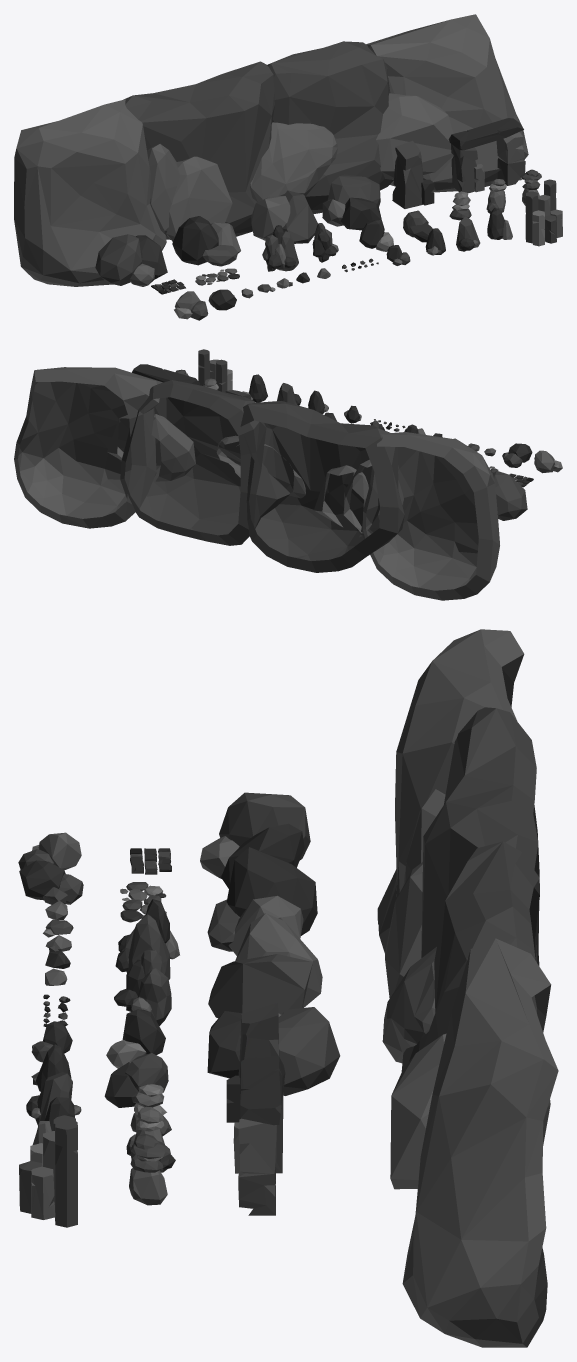
Rendered from low_poly_rocks_fbx.glb.
3 views of the same model, one above another, from view 1: azimuth 30°, elevation 25°; view 2: azimuth 150°, elevation 25°; view 3: azimuth 270°, elevation 25° (orthographic). The views are drawn at different scales.
Parts seen in each view (by area): view 1: rock_xxl_01, rock_xxl_02, rock_xxl_03, rock_xxl_01.002, rock_xxl_02.5, rock_xxl_01.003, rock_xxl_01.001, rock_xl_03, rock_xl_02.001, rock_xl_02, rock_xl_01, rock_xxl_01.5 (+16 smaller); view 2: rock_xxl_01.002, rock_xxl_02, rock_xxl_01, rock_xxl_03, rock_xxl_01.003, rock_xl_03, rock_xxl_01.001, rock_xxl_01.5, column-rock-6, rock_xxl_02.5, rock_lg_04, rock_lg_03 (+4 smaller); view 3: rock_xxl_01.002, rock_xxl_02, rock_xxl_01, rock_xxl_03, rock_xl_01, rock_xl_02, rock_xl_02.001, rock_xl_03, rock_xxl_01.003, rock_xxl_02.5, column-rock-5, rock_xxl_01.001 (+16 smaller).
Part boxes in pixels (bbox=[...]): rock_xxl_01: bbox=[14, 99, 166, 286]; rock_xxl_02: bbox=[123, 61, 274, 239]; rock_xxl_03: bbox=[267, 41, 393, 214]; rock_xxl_01.002: bbox=[366, 14, 528, 192]; rock_xxl_02.5: bbox=[250, 122, 337, 201]; rock_xxl_01.003: bbox=[376, 93, 453, 179]; rock_xxl_01.001: bbox=[166, 156, 232, 241]; rock_xl_03: bbox=[95, 234, 167, 286]; rock_xl_02.001: bbox=[322, 174, 381, 230]; rock_xl_02: bbox=[172, 216, 240, 266]; rock_xl_01: bbox=[251, 190, 317, 243]; rock_xxl_01.5: bbox=[147, 144, 180, 235]; rock_xxl_01.002: bbox=[14, 367, 162, 528]; rock_xxl_02: bbox=[240, 401, 404, 572]; rock_xxl_01: bbox=[363, 432, 499, 600]; rock_xxl_03: bbox=[120, 380, 289, 545]; rock_xxl_01.003: bbox=[107, 414, 195, 481]; rock_xl_03: bbox=[492, 470, 527, 520]; rock_xxl_01.001: bbox=[314, 465, 368, 537]; rock_xxl_01.5: bbox=[343, 459, 403, 533]; column-rock-6: bbox=[132, 364, 200, 385]; rock_xxl_02.5: bbox=[216, 435, 305, 498]; rock_lg_04: bbox=[502, 443, 532, 467]; rock_lg_03: bbox=[534, 450, 562, 473]; rock_xxl_01.002: bbox=[402, 938, 558, 1347]; rock_xxl_02: bbox=[421, 707, 539, 965]; rock_xxl_01: bbox=[377, 629, 524, 952]; rock_xxl_03: bbox=[401, 841, 550, 1145]; rock_xl_01: bbox=[208, 913, 322, 1018]; rock_xl_02: bbox=[207, 847, 317, 955]; rock_xl_02.001: bbox=[207, 1007, 340, 1095]; rock_xl_03: bbox=[200, 792, 310, 888]; rock_xxl_01.003: bbox=[390, 1033, 446, 1189]; rock_xxl_02.5: bbox=[382, 947, 436, 1063]; column-rock-5: bbox=[238, 1118, 276, 1215]; rock_xxl_01.001: bbox=[385, 862, 422, 998].
Size of the model in its own units: 46.49 by 15.42 by 23.03.
1 material, 1 textured.
